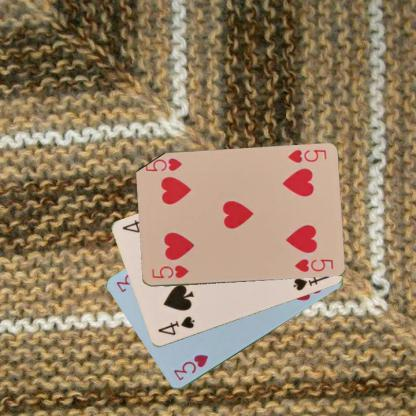3h: (170, 352, 210, 382)
4s: (155, 314, 196, 337)
5h: (148, 262, 190, 280), (285, 147, 327, 165)
